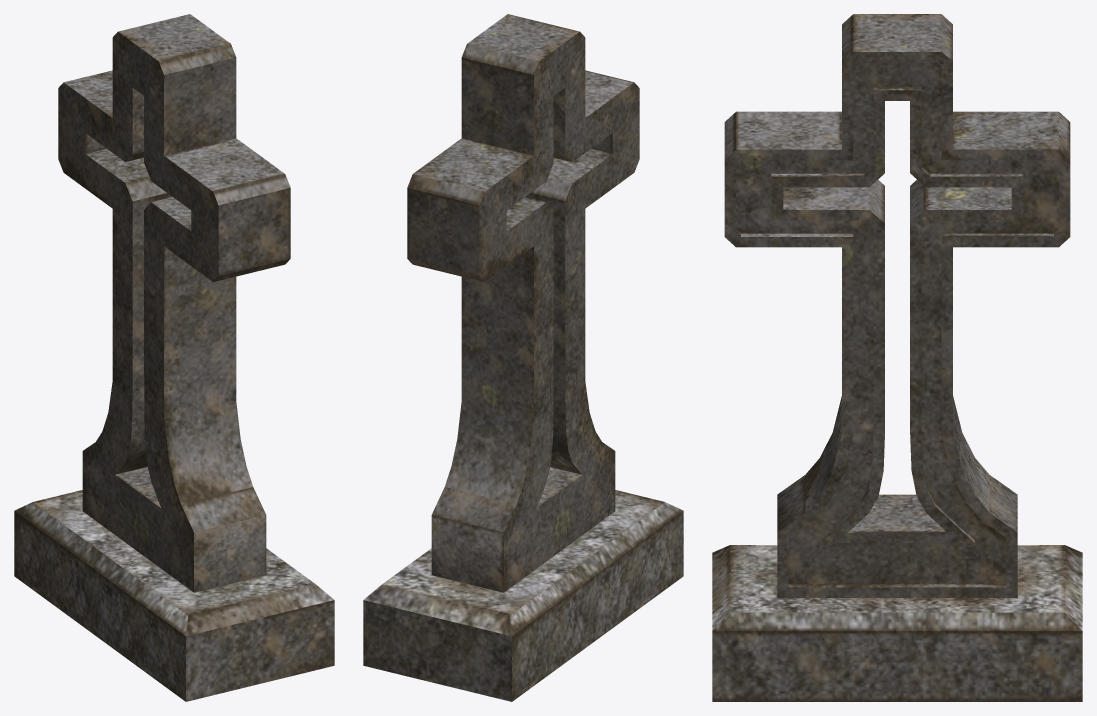
File: cross1.glb
3 views of the same model, side by side, from view 1: azimuth 30°, elevation 25°; view 2: azimuth 150°, elevation 25°; view 3: azimuth 270°, elevation 25° (orthographic). The views are drawn at different scales.
Parts seen in each view (by area): view 1: Grave3_Graves_0; view 2: Grave3_Graves_0; view 3: Grave3_Graves_0.
Part boxes in pixels (bbox=[...]): Grave3_Graves_0: bbox=[14, 14, 334, 701]; Grave3_Graves_0: bbox=[363, 14, 683, 701]; Grave3_Graves_0: bbox=[712, 14, 1082, 701].
Size of the model in its own units: 30.48 by 114 by 60.96.
1 material, 1 textured.
